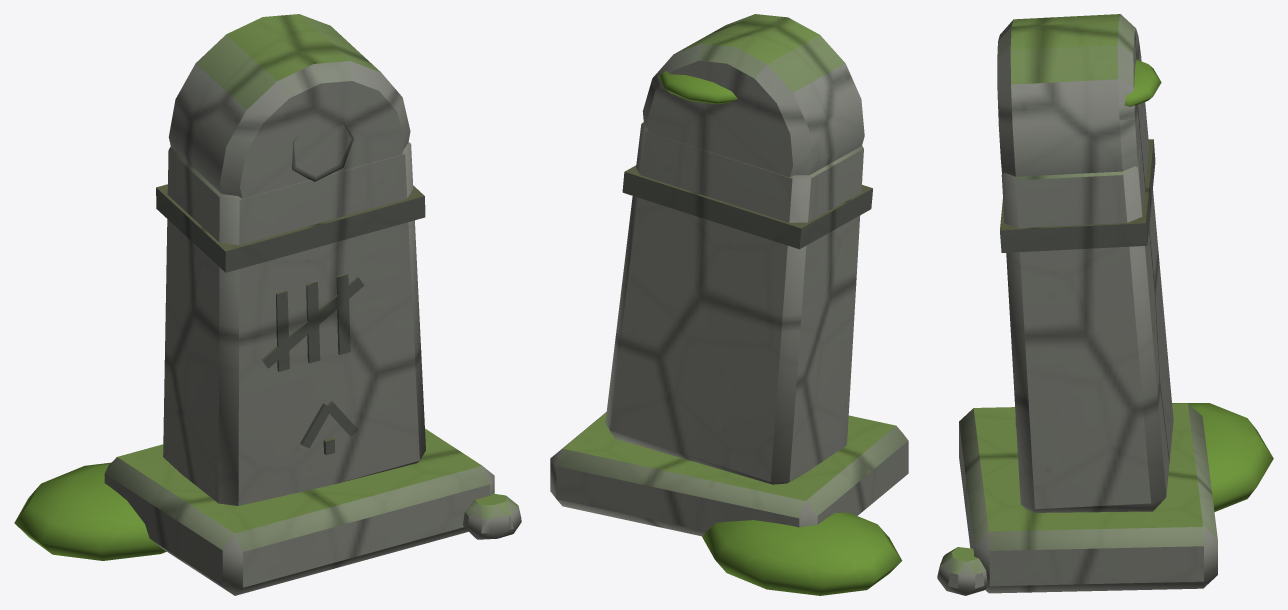
Rendered from stone_milestone.glb.
3 renders of one model, left to right at view 1: azimuth 30°, elevation 25°; view 2: azimuth 150°, elevation 25°; view 3: azimuth 270°, elevation 25°, orthographic. The views are drawn at different scales.
Visible parts, largest first — view 1: stone_milestone; view 2: stone_milestone; view 3: stone_milestone.
Boxes of the visible parts, bbox=[...] form: stone_milestone: bbox=[14, 14, 521, 595]; stone_milestone: bbox=[550, 14, 908, 595]; stone_milestone: bbox=[937, 14, 1273, 595].
Bounding box in the file's own units: 0.8884 × 1.18 × 0.6901.
Materials: 3 (3 with a texture image).
